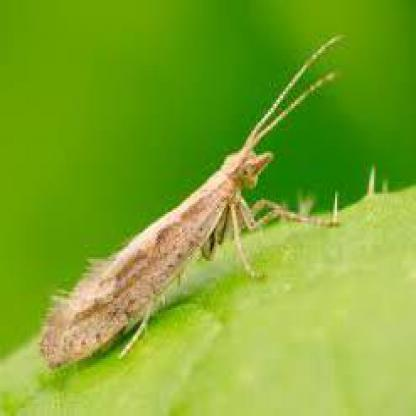plutella: (36, 22, 350, 371)
